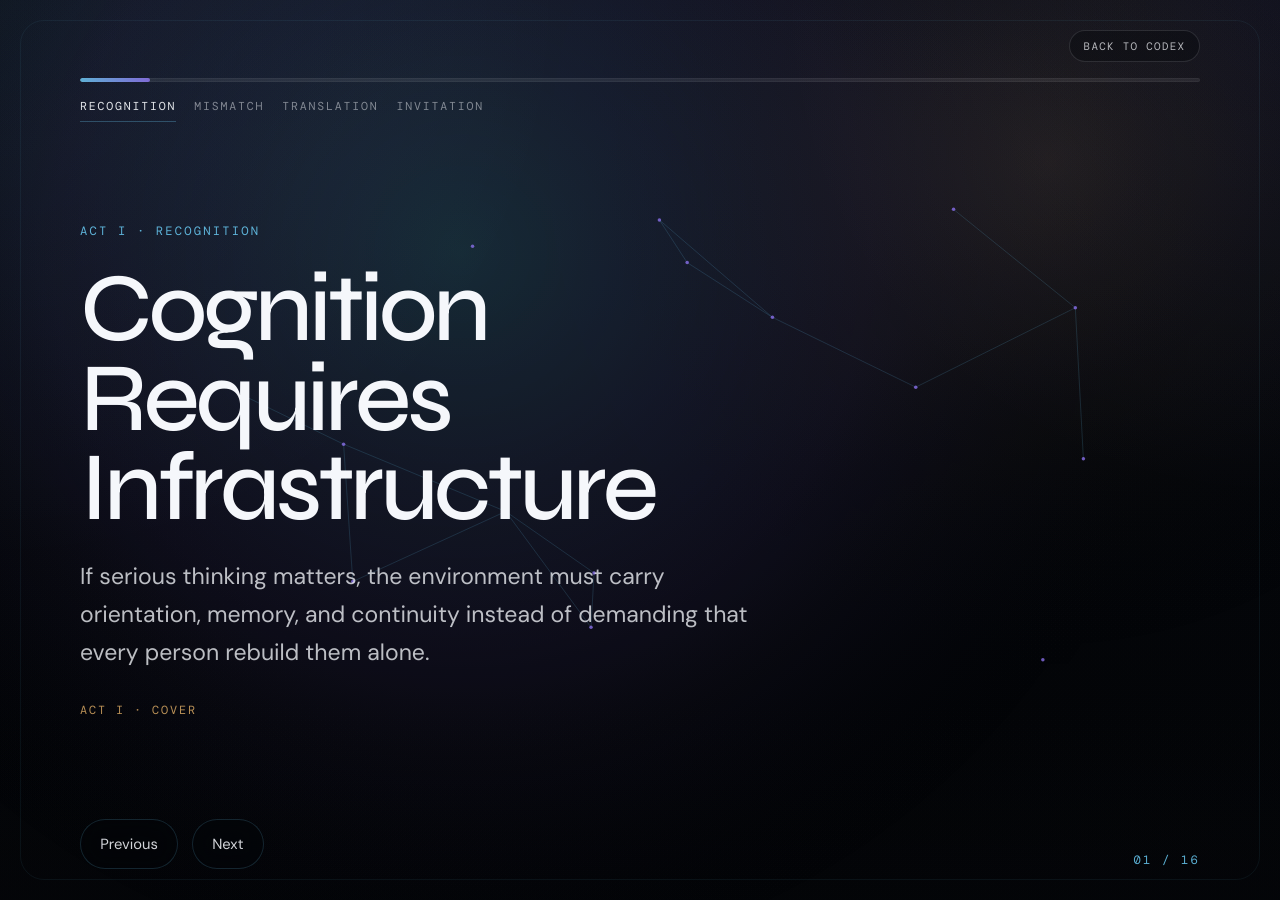
Test: CognitionDeck › reaches a throughput slide with throughput visual state
This screenshot has width=1280, height=900.
Click the button with aria-label "next slide": {"x": 228, "y": 844} x1=192 y1=819 x2=264 y2=869
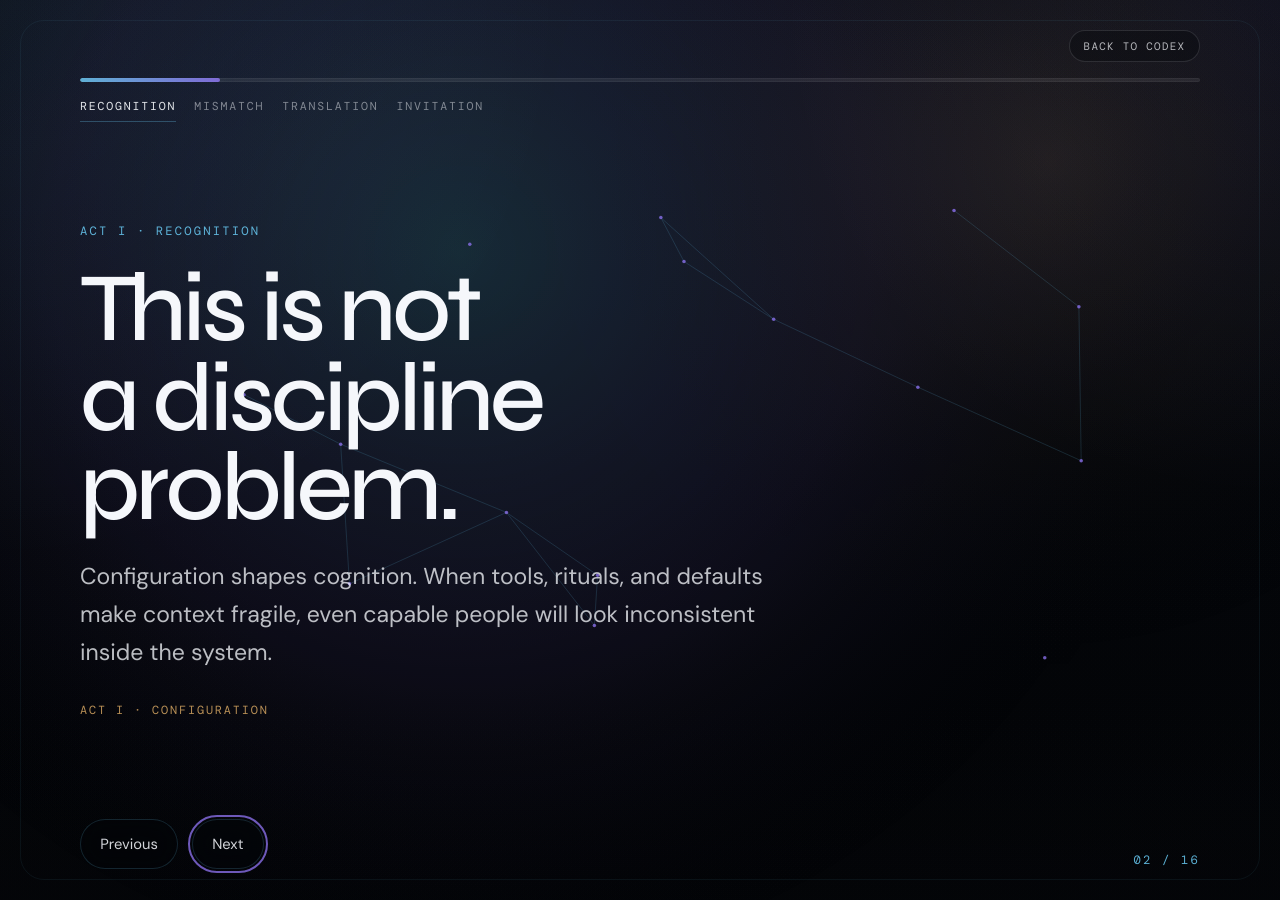
Click the button with aria-label "next slide": {"x": 228, "y": 844} x1=192 y1=819 x2=264 y2=869
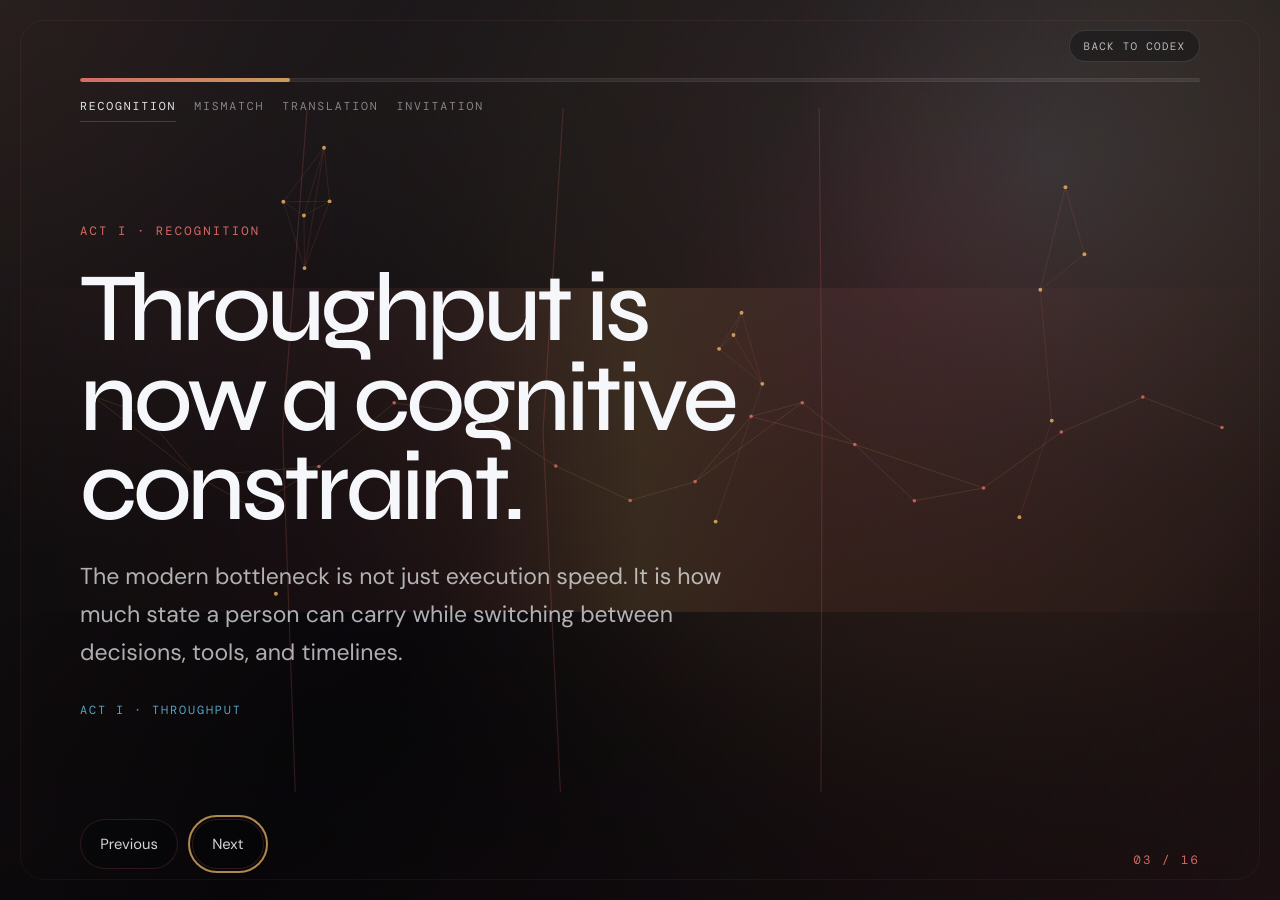
Result: the heading "Throughput is now a cognitive constraint." is shown at x1=80 y1=264 x2=758 y2=532
